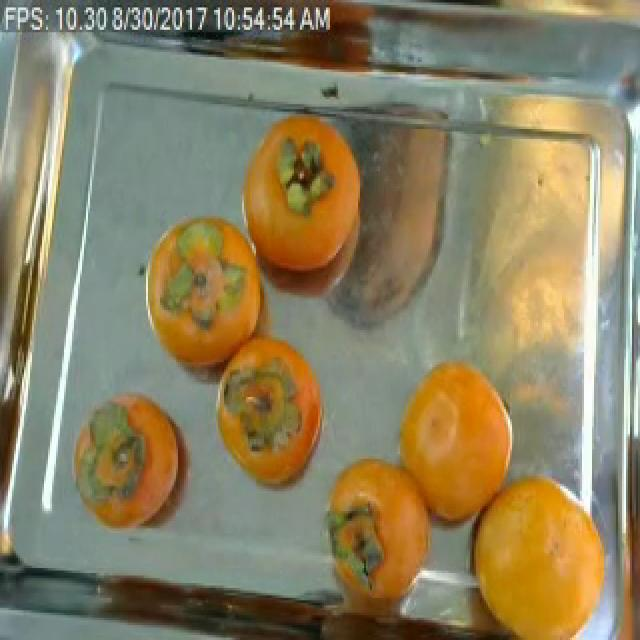Fruit: (226, 101, 372, 312), (448, 454, 606, 640), (132, 198, 276, 400), (312, 437, 452, 630), (384, 348, 528, 534), (208, 323, 336, 506), (66, 380, 204, 546)
